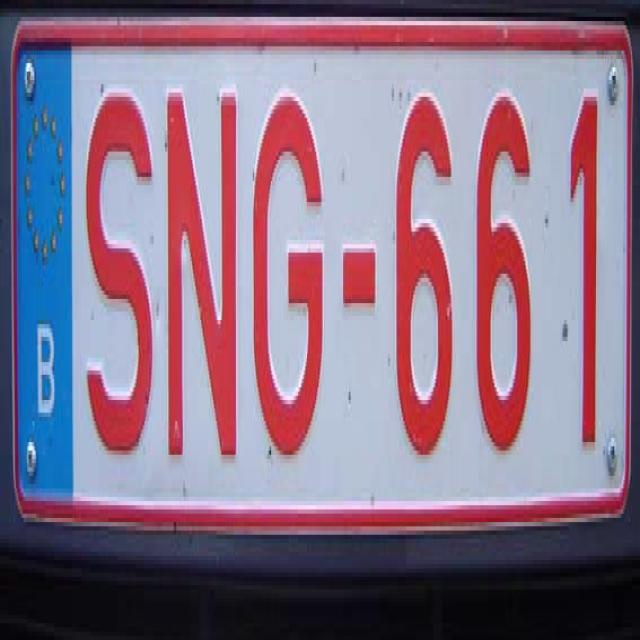Belgique: (16, 44, 72, 497)
EU: (16, 41, 623, 499)
